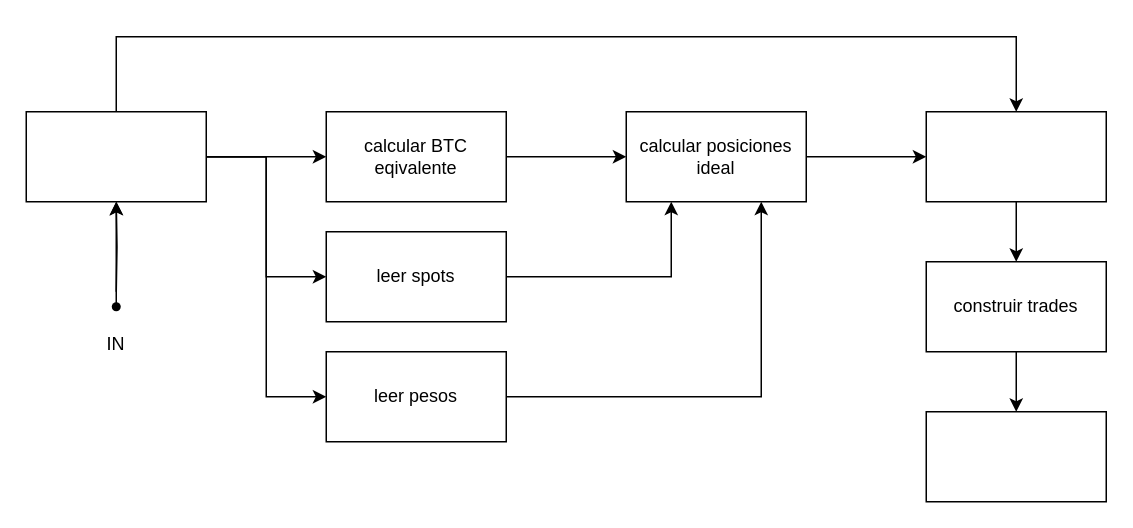
Image size: 1133x528. Some labels were removed from this diagram. Each missing label, with the box of its shape:
calcular desviación: (925, 110, 1106, 202)
leer posiciones: (25, 110, 206, 202)
submitir trades: (925, 410, 1106, 502)
